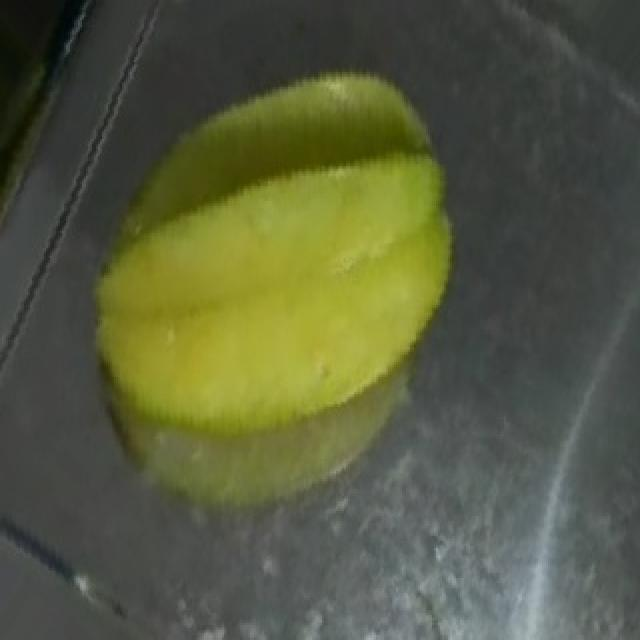fruit: (36, 15, 514, 469)
